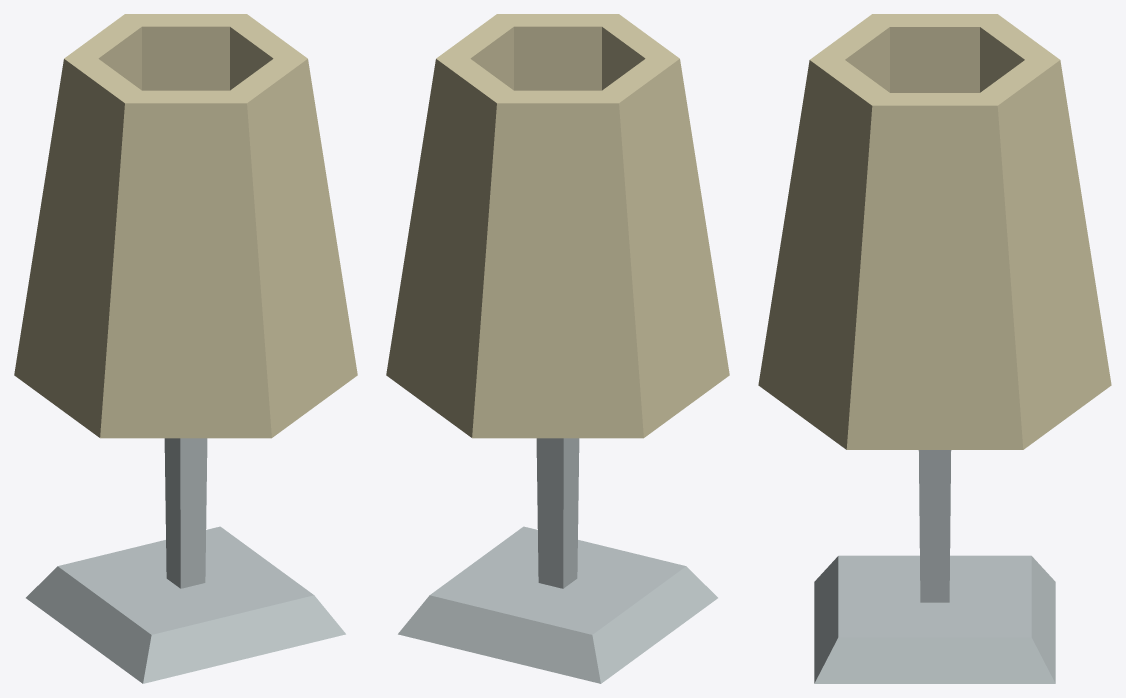
File: lampRoundTable.glb
The picture shows the model from 3 angles, left to right: view 1: azimuth 30°, elevation 25°; view 2: azimuth 150°, elevation 25°; view 3: azimuth 270°, elevation 25°; orthographic projection. The views are drawn at different scales.
Visible parts, largest first — view 1: lampRoundTable; view 2: lampRoundTable; view 3: lampRoundTable.
Boxes of the visible parts, x1,y1,x2,y2 form: lampRoundTable: (14, 14, 357, 683); lampRoundTable: (386, 14, 729, 683); lampRoundTable: (758, 14, 1111, 683).
Size of the model in its own units: 0.152 by 0.3142 by 0.1756.
